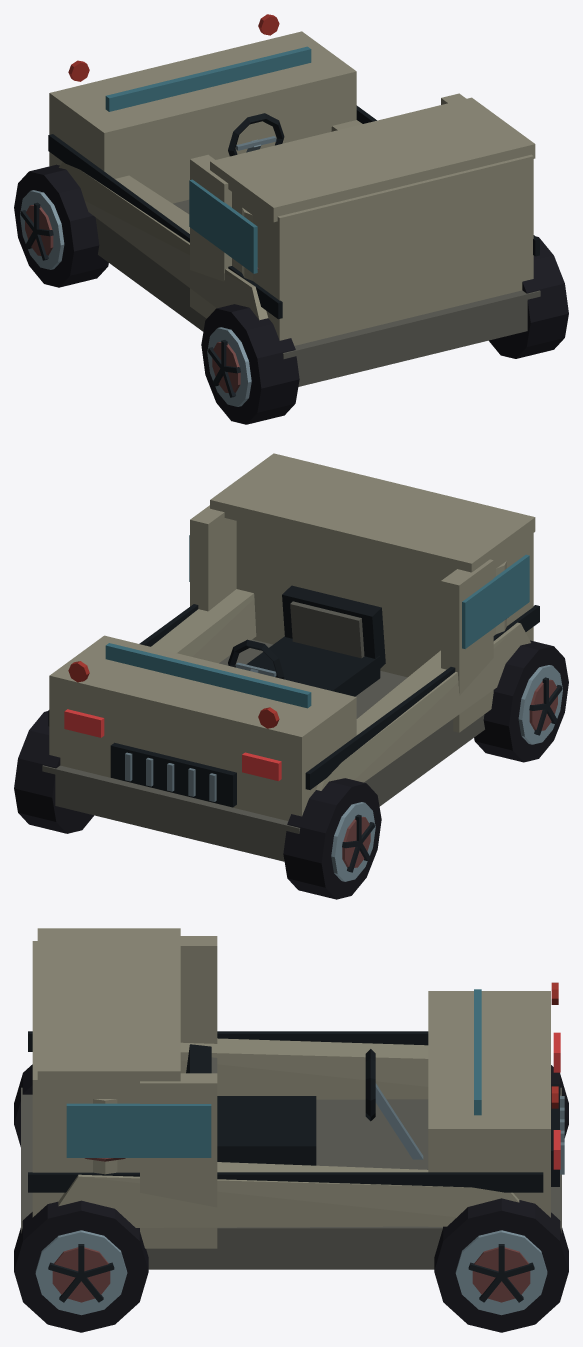
The model's file is kart.glb.
3 views of the same model, one above another, from view 1: azimuth 30°, elevation 25°; view 2: azimuth 150°, elevation 25°; view 3: azimuth 270°, elevation 25° (orthographic). The views are drawn at different scales.
Parts seen in each view (by area): view 1: identity-bus-bus-utility-body, wheel-rear-left, wheel-front-left, wheel-rear-right, identity-bus-driver-cockpit; view 2: identity-bus-bus-utility-body, identity-bus-driver-cockpit, wheel-front-left, wheel-rear-left, wheel-front-right; view 3: identity-bus-bus-utility-body, wheel-front-right, wheel-rear-right, identity-bus-driver-cockpit, wheel-rear-left, identity-bus-motif-tanks.
Part boxes in pixels (x1,y1,x2,y2): identity-bus-bus-utility-body: (48, 14, 540, 386); wheel-rear-left: (201, 304, 299, 424); wheel-front-left: (14, 164, 108, 287); wheel-rear-right: (489, 236, 568, 358); identity-bus-driver-cockpit: (228, 113, 284, 156); identity-bus-bus-utility-body: (42, 453, 539, 861); identity-bus-driver-cockpit: (228, 585, 385, 696); wheel-front-left: (283, 778, 381, 899); wheel-rear-left: (474, 640, 568, 762); wheel-front-right: (14, 711, 93, 833); identity-bus-bus-utility-body: (21, 928, 564, 1269); wheel-front-right: (434, 1198, 568, 1332); wheel-rear-right: (14, 1200, 148, 1332); identity-bus-driver-cockpit: (186, 1044, 423, 1165); wheel-rear-left: (14, 1064, 32, 1146); identity-bus-motif-tanks: (84, 1099, 125, 1174).
Bounding box in the file's own units: 2.13 × 1.38 × 2.8.
